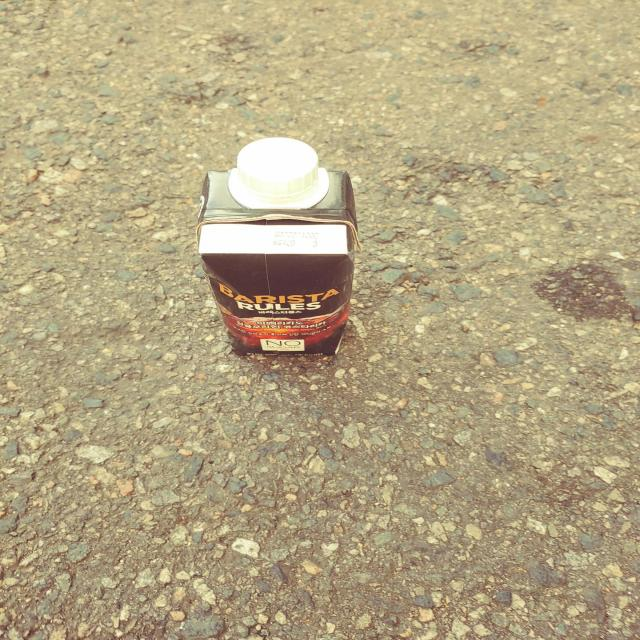paperpack: (197, 137, 360, 355)
